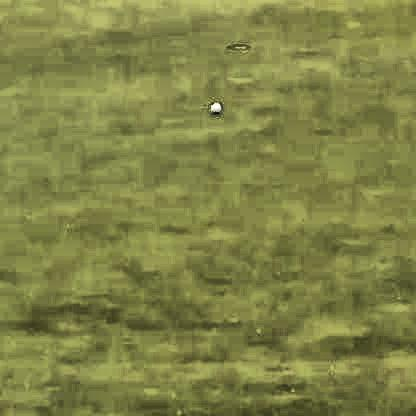golfball: (208, 100, 219, 111)
